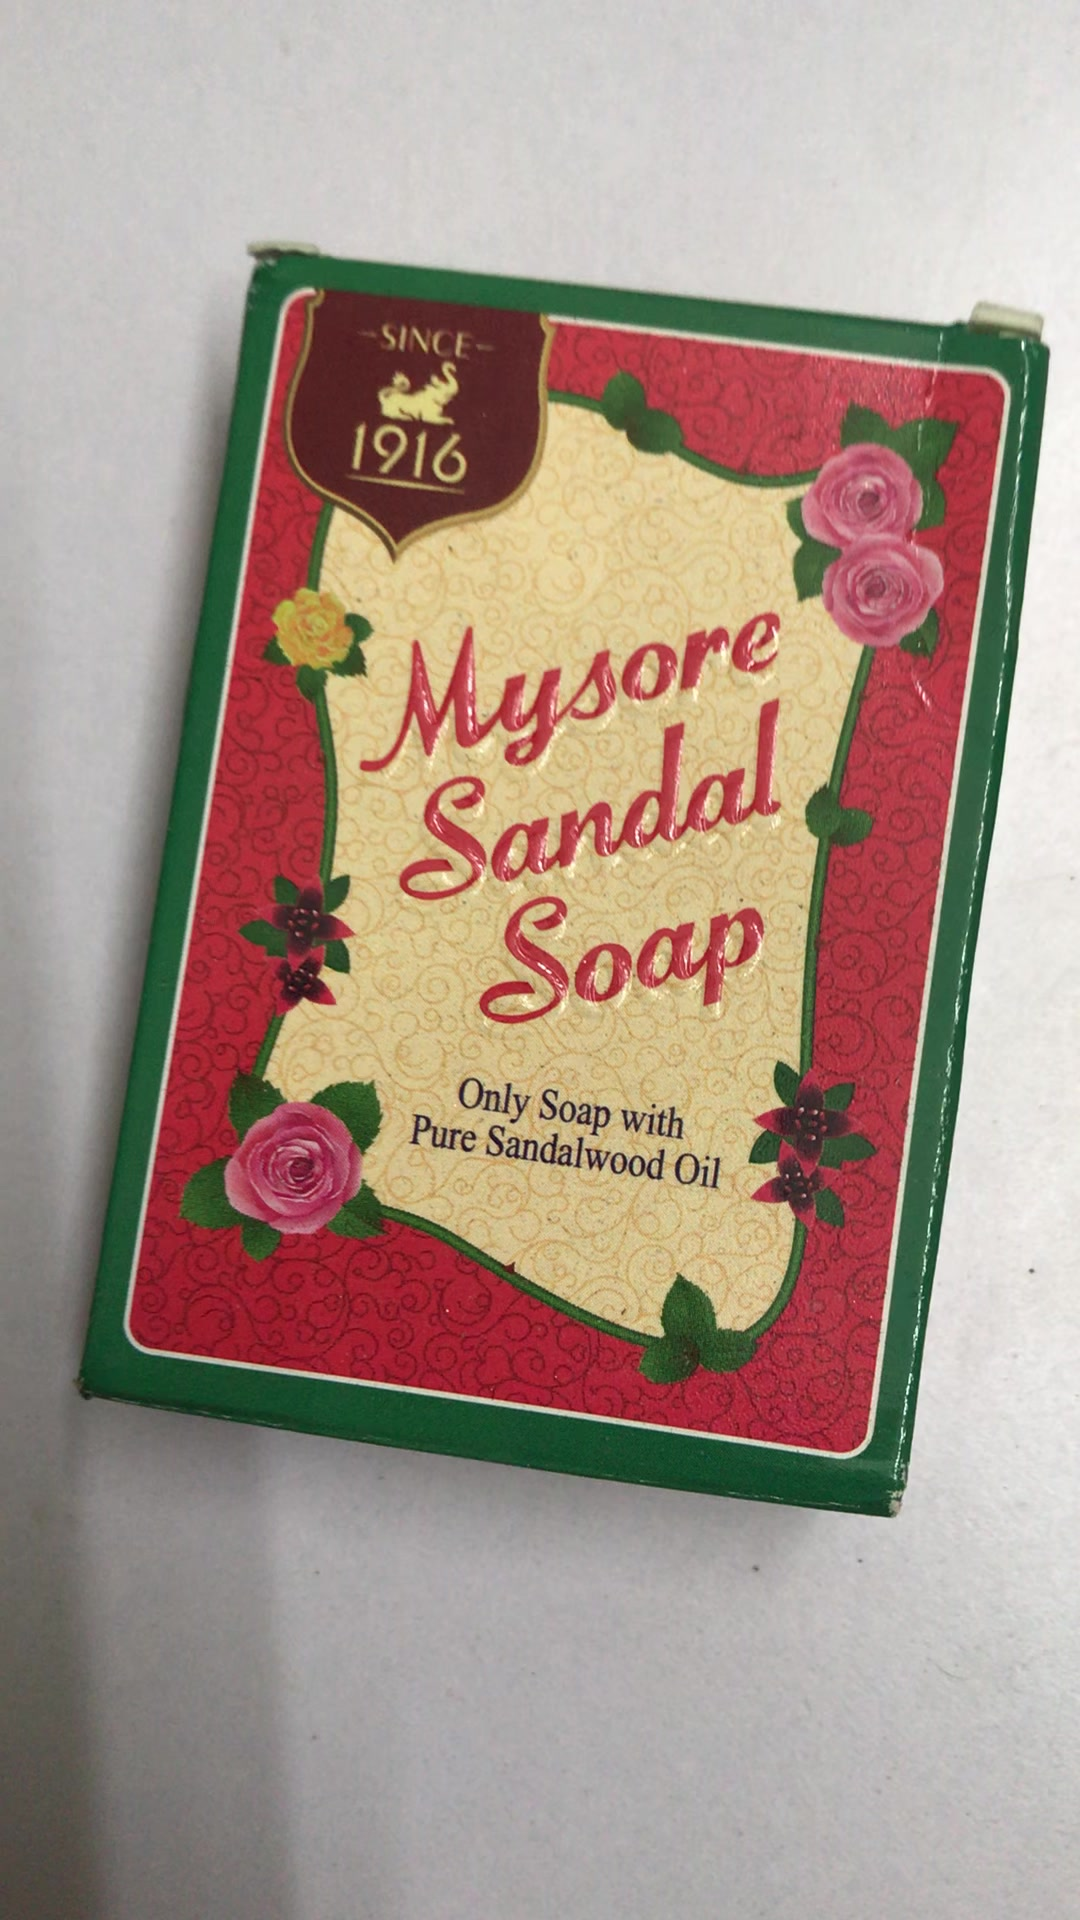mysore sandal soap: (73, 248, 1048, 1519)
